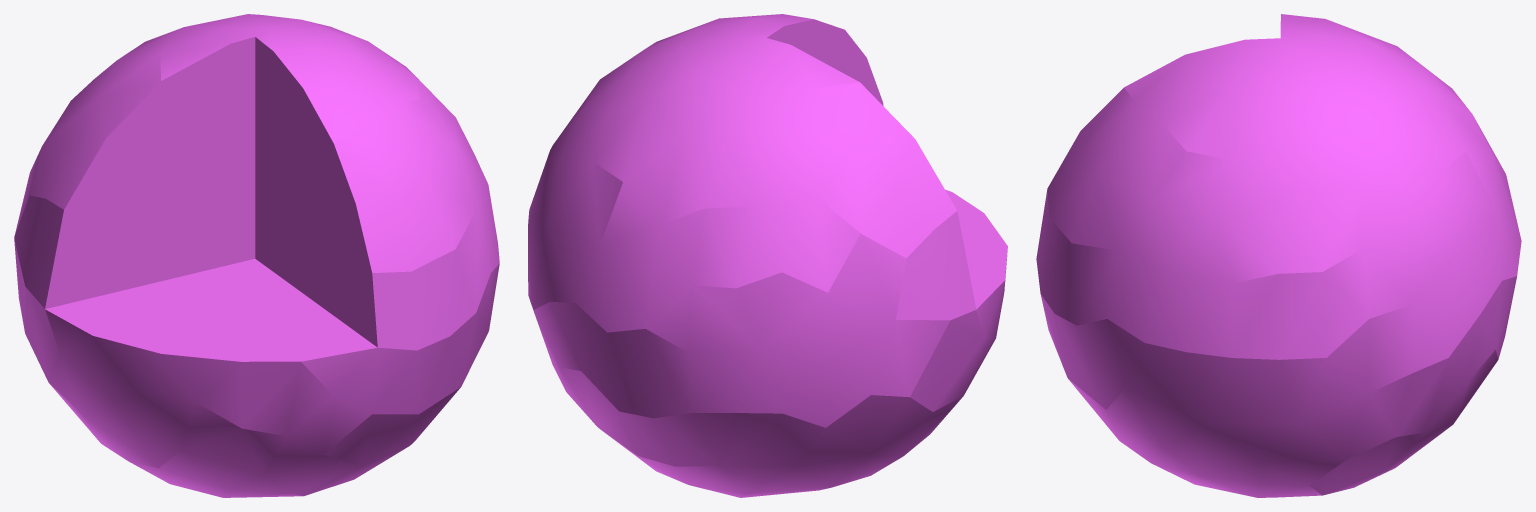
File: nucleus2.glb
3 views of the same model, side by side, from view 1: azimuth 30°, elevation 25°; view 2: azimuth 150°, elevation 25°; view 3: azimuth 270°, elevation 25° (orthographic).
Visible parts, largest first — view 1: Chromatin; view 2: Chromatin; view 3: Chromatin.
Boxes of the visible parts, <box> form: Chromatin: <box>14,14,499,497</box>; Chromatin: <box>528,14,1007,497</box>; Chromatin: <box>1036,14,1521,497</box>.
Bounding box in the file's own units: 4.83 × 4.81 × 4.83.
